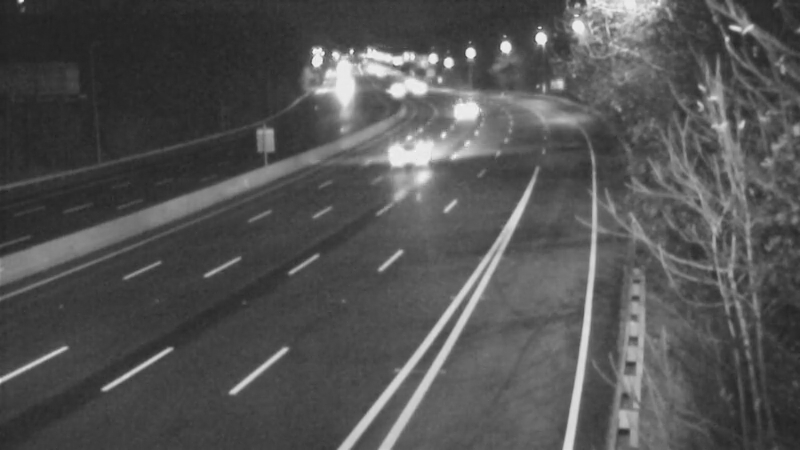vehicle: (383, 60, 433, 110), (388, 61, 438, 111), (370, 65, 420, 115), (444, 82, 494, 132), (394, 123, 444, 173), (320, 66, 370, 116)
